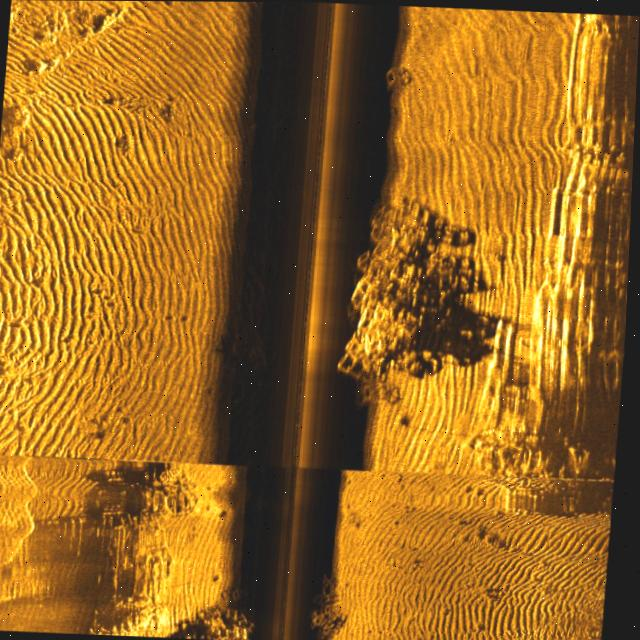artificial reef: (339, 206, 456, 402), (292, 560, 344, 640), (202, 590, 260, 640), (374, 44, 414, 107)
